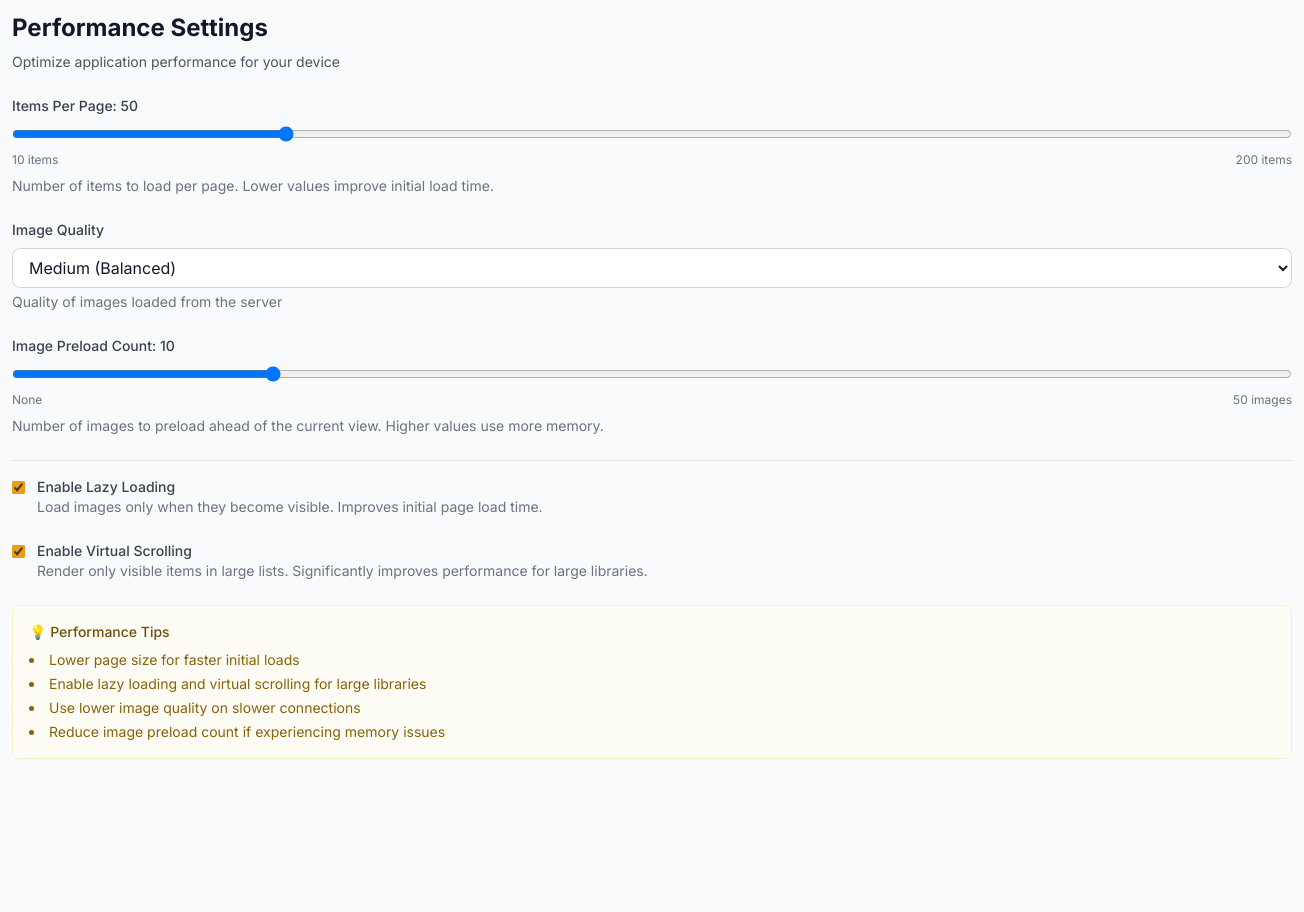
it: PerformanceSettings › should toggle virtual scrolling
Click the checkbox labelled "Enable Virtual Scrolling" at (18, 552), box left=12, top=545, right=25, bottom=558
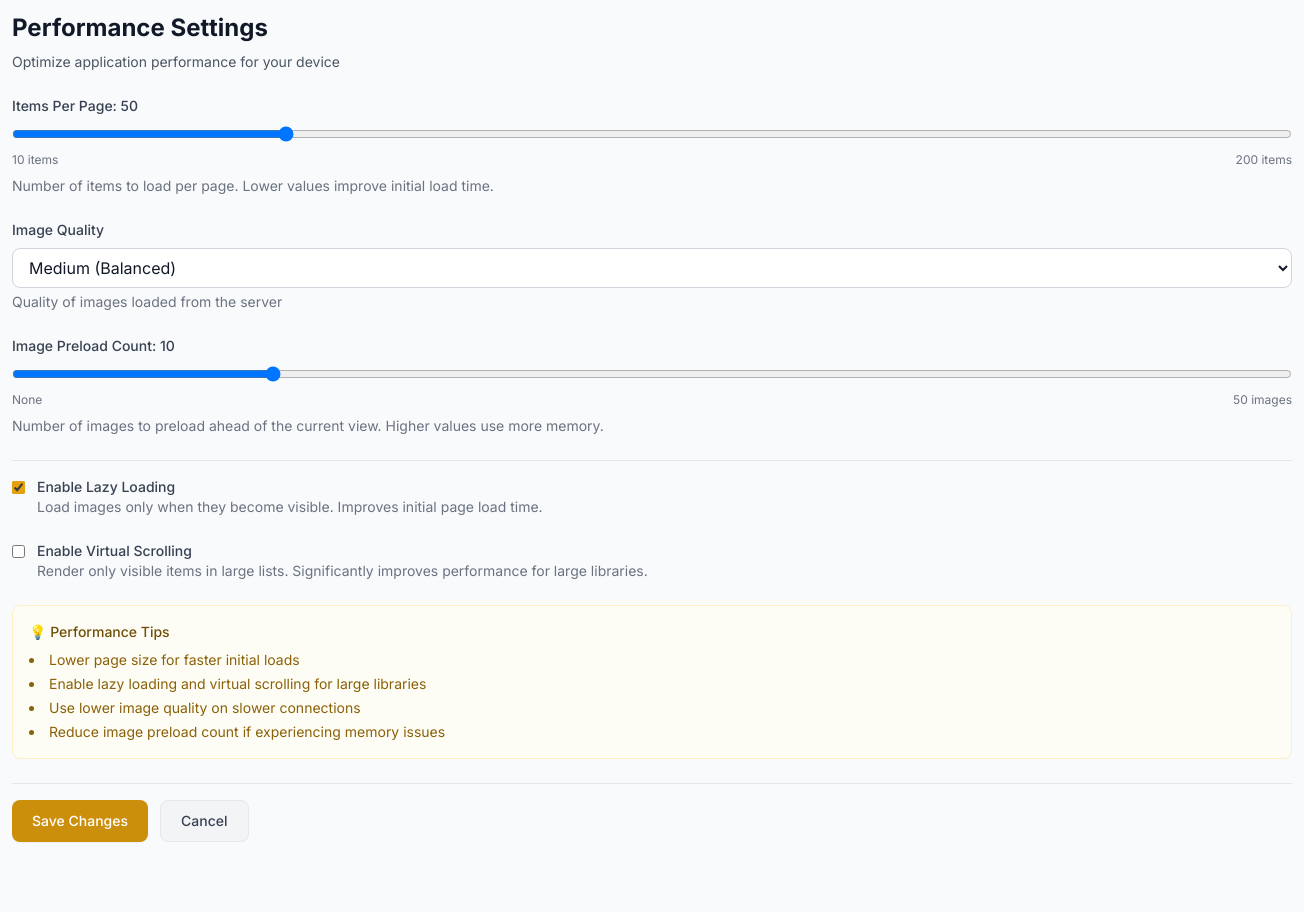
Result: the checkbox labelled "Enable Virtual Scrolling" is not checked at left=12, top=545, right=25, bottom=558
Result: the text "Save Changes" is shown at left=32, top=811, right=128, bottom=831
